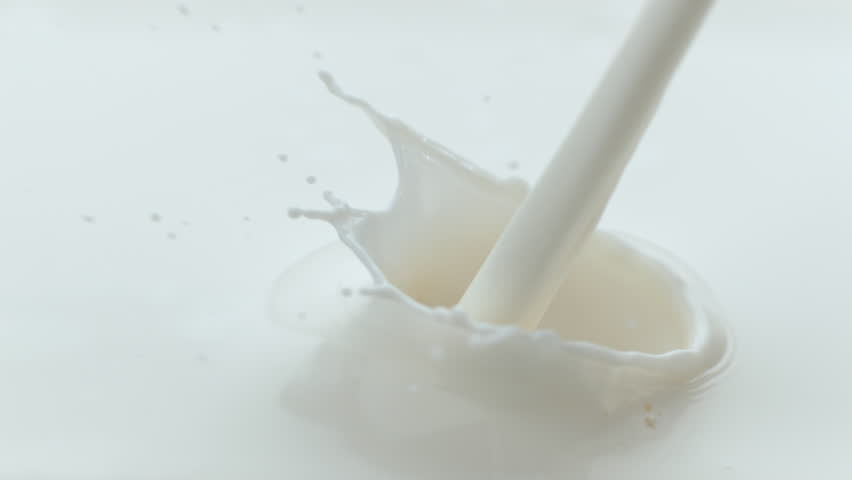glass of milk: (3, 6, 852, 476)
